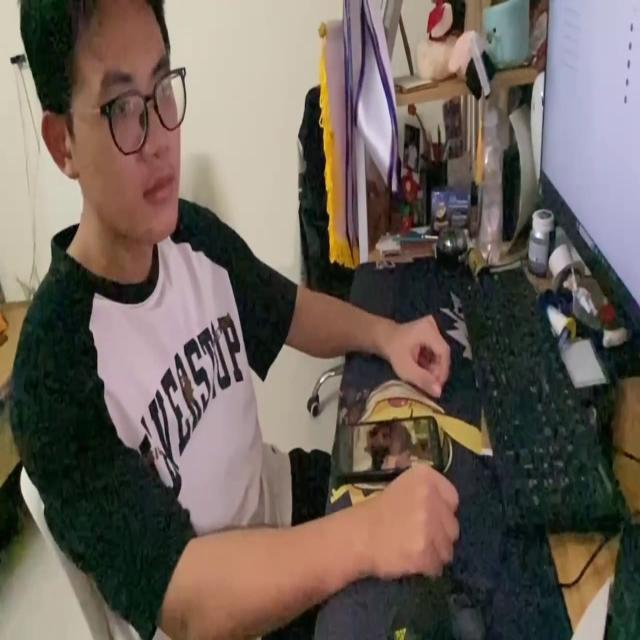laptop: (537, 0, 640, 341)
phone: (335, 412, 447, 481)
student: (10, 0, 460, 640)
